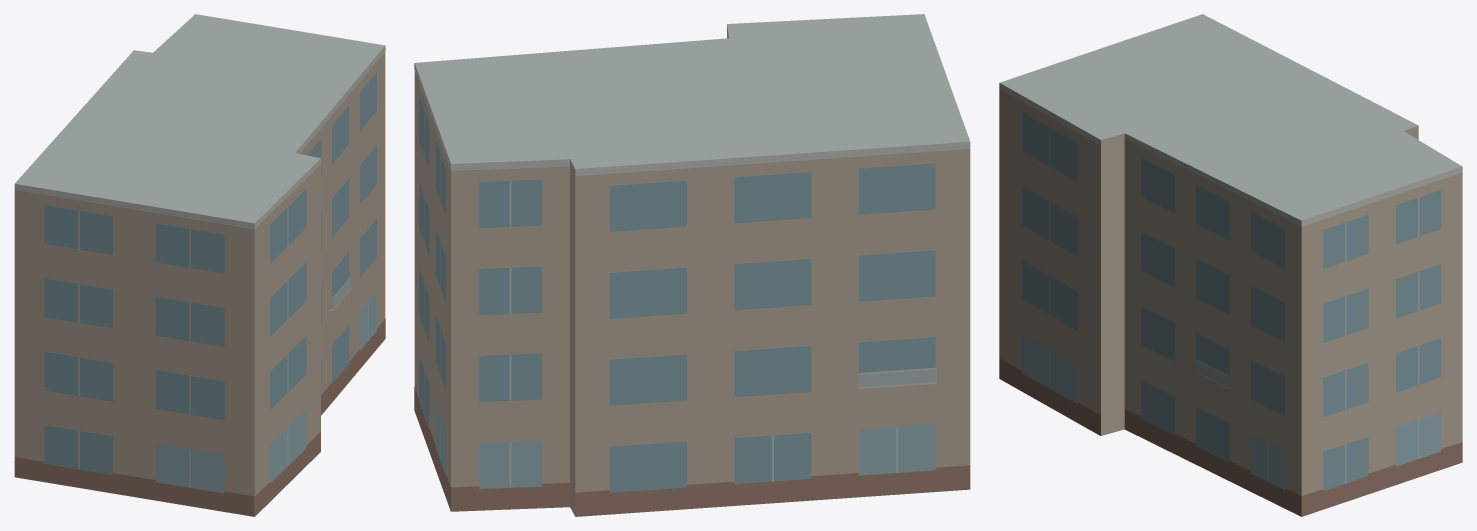
Rendered from survey-upis-32859908.glb.
3 views of the same model, side by side, from view 1: azimuth 30°, elevation 25°; view 2: azimuth 150°, elevation 25°; view 3: azimuth 270°, elevation 25° (orthographic). The views are drawn at different scales.
Parts seen in each view (by area): view 1: survey-upis-32859908.tmp; view 2: survey-upis-32859908.tmp; view 3: survey-upis-32859908.tmp.
Boxes of the visible parts, bbox=[...] form: survey-upis-32859908.tmp: bbox=[14, 14, 385, 516]; survey-upis-32859908.tmp: bbox=[414, 14, 970, 516]; survey-upis-32859908.tmp: bbox=[999, 14, 1462, 516].
Size of the model in its own units: 17.86 by 11.92 by 16.9.
